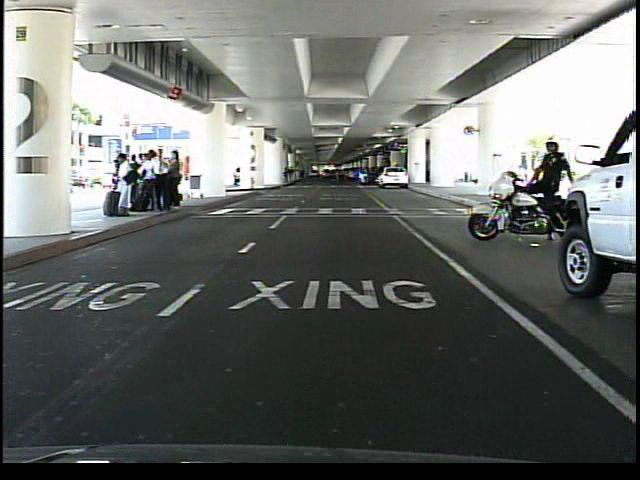person: (529, 131, 573, 247)
